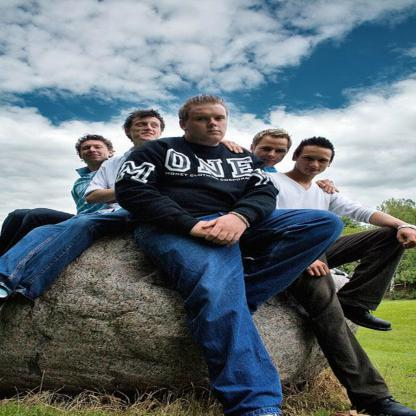face: (190, 105, 226, 141), (298, 147, 332, 176), (256, 138, 288, 168), (132, 119, 161, 140), (81, 141, 106, 163)
